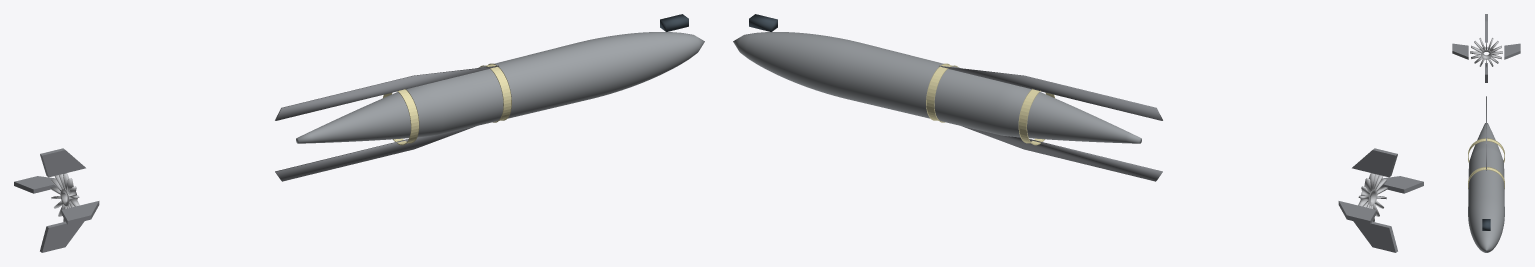
The model's file is RU_TORP_5365K_LOD0.fbx.
3 views of the same model, side by side, from view 1: azimuth 30°, elevation 25°; view 2: azimuth 150°, elevation 25°; view 3: azimuth 270°, elevation 25° (orthographic). The views are drawn at different scales.
Parts seen in each view (by area): view 1: WPN_RU_TORP_5365K_LOD0_Body, WPN_RU_TORP_5365K_LOD0_Detail, WPN_RU_TORP_5365K_LOD0_Fins, WPN_RU_TORP_5365K_LOD0_Marking, WPN_RU_TORP_5365K_LOD0_Propulsor, WPN_RU_TORP_5365K_LOD0_Seeker; view 2: WPN_RU_TORP_5365K_LOD0_Body, WPN_RU_TORP_5365K_LOD0_Detail, WPN_RU_TORP_5365K_LOD0_Fins, WPN_RU_TORP_5365K_LOD0_Marking, WPN_RU_TORP_5365K_LOD0_Propulsor, WPN_RU_TORP_5365K_LOD0_Seeker; view 3: WPN_RU_TORP_5365K_LOD0_Body, WPN_RU_TORP_5365K_LOD0_Fins, WPN_RU_TORP_5365K_LOD0_Propulsor, WPN_RU_TORP_5365K_LOD0_Marking, WPN_RU_TORP_5365K_LOD0_Seeker, WPN_RU_TORP_5365K_LOD0_Detail.
Boxes of the visible parts, left/top/right/bottom form: WPN_RU_TORP_5365K_LOD0_Body: left=296, top=32, right=704, bottom=143; WPN_RU_TORP_5365K_LOD0_Detail: left=275, top=65, right=498, bottom=181; WPN_RU_TORP_5365K_LOD0_Fins: left=14, top=148, right=99, bottom=252; WPN_RU_TORP_5365K_LOD0_Marking: left=383, top=63, right=511, bottom=145; WPN_RU_TORP_5365K_LOD0_Propulsor: left=50, top=173, right=79, bottom=221; WPN_RU_TORP_5365K_LOD0_Seeker: left=660, top=14, right=688, bottom=31; WPN_RU_TORP_5365K_LOD0_Body: left=733, top=32, right=1141, bottom=143; WPN_RU_TORP_5365K_LOD0_Detail: left=939, top=65, right=1162, bottom=181; WPN_RU_TORP_5365K_LOD0_Fins: left=1338, top=148, right=1423, bottom=252; WPN_RU_TORP_5365K_LOD0_Marking: left=926, top=63, right=1054, bottom=145; WPN_RU_TORP_5365K_LOD0_Propulsor: left=1358, top=173, right=1387, bottom=221; WPN_RU_TORP_5365K_LOD0_Seeker: left=749, top=14, right=777, bottom=31; WPN_RU_TORP_5365K_LOD0_Body: left=1468, top=123, right=1504, bottom=252; WPN_RU_TORP_5365K_LOD0_Fins: left=1452, top=14, right=1520, bottom=82; WPN_RU_TORP_5365K_LOD0_Propulsor: left=1470, top=38, right=1502, bottom=67; WPN_RU_TORP_5365K_LOD0_Marking: left=1468, top=138, right=1504, bottom=188; WPN_RU_TORP_5365K_LOD0_Seeker: left=1482, top=219, right=1490, bottom=230; WPN_RU_TORP_5365K_LOD0_Detail: left=1486, top=96, right=1486, bottom=170.
Size of the model in its own units: 7.03 by 0.9849 by 0.9849.
